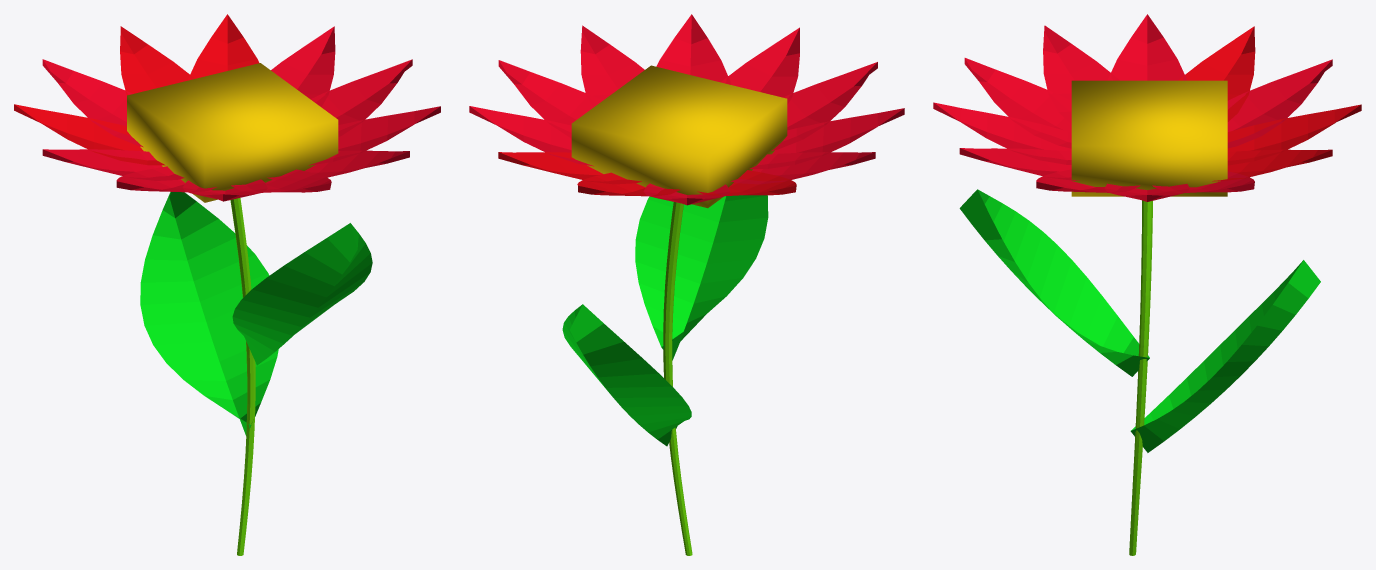
The picture shows the model from 3 angles, left to right: view 1: azimuth 30°, elevation 25°; view 2: azimuth 150°, elevation 25°; view 3: azimuth 270°, elevation 25°; orthographic projection. The views are drawn at different scales.
Parts seen in each view (by area): view 1: Stem, Petal.001, 立方体.002; view 2: Petal.001, Stem, 立方体.002; view 3: Petal.001, Stem, 立方体.002.
Boxes of the visible parts, bbox=[...] form: Stem: bbox=[140, 192, 372, 555]; Petal.001: bbox=[14, 14, 440, 201]; 立方体.002: bbox=[127, 63, 338, 202]; Petal.001: bbox=[469, 14, 904, 205]; Stem: bbox=[562, 195, 768, 555]; 立方体.002: bbox=[571, 65, 787, 208]; Petal.001: bbox=[933, 14, 1361, 201]; Stem: bbox=[959, 189, 1320, 555]; 立方体.002: bbox=[1071, 80, 1227, 196].
Bounding box in the file's own units: 3 × 3.46 × 3.
